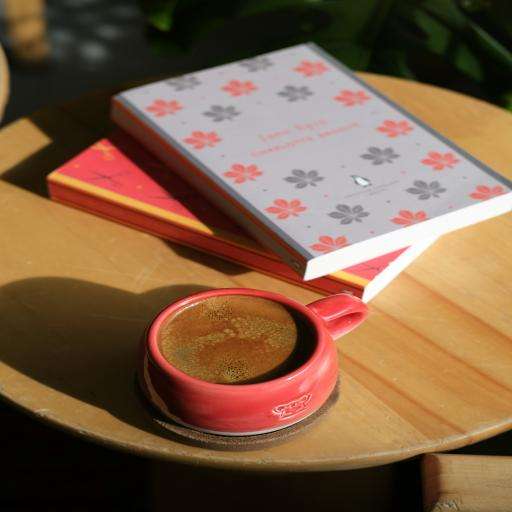cup: (141, 287, 370, 437)
